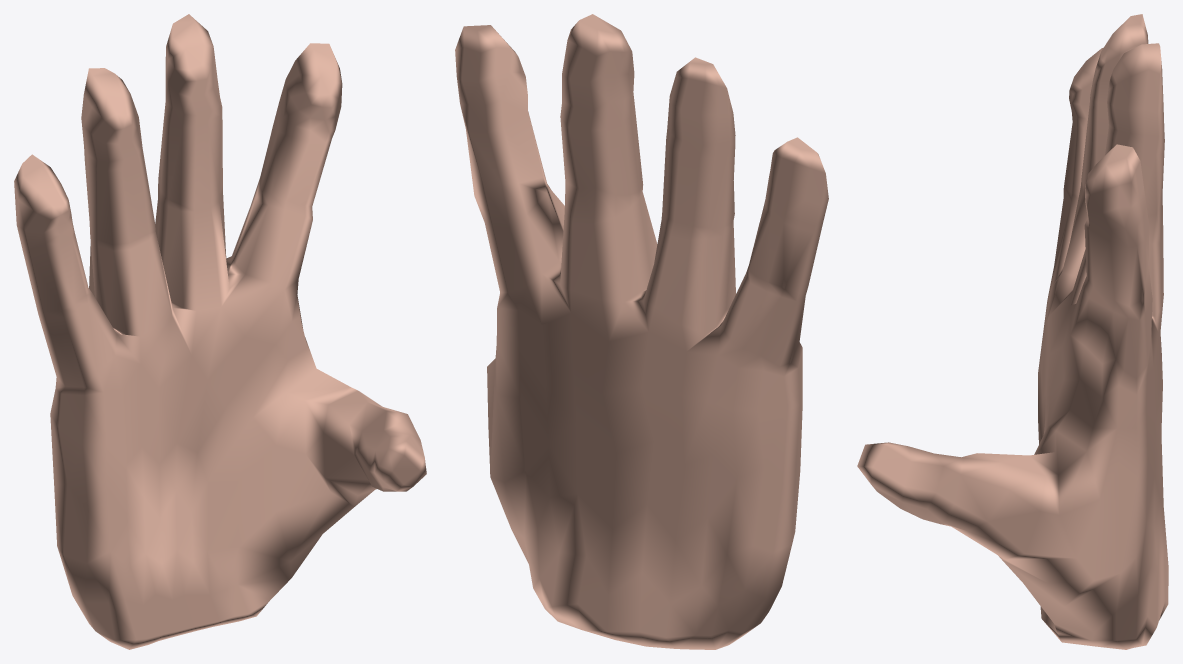
File: MAO_5_COM_POLEGAR_PARA_FRENTE.obj
3 views of the same model, side by side, from view 1: azimuth 30°, elevation 25°; view 2: azimuth 150°, elevation 25°; view 3: azimuth 270°, elevation 25° (orthographic). The views are drawn at different scales.
Parts seen in each view (by area): view 1: mao_dir:mao_dir; view 2: mao_dir:mao_dir; view 3: mao_dir:mao_dir.
Part boxes in pixels (x1,y1,x2,y2): mao_dir:mao_dir: [14, 14, 426, 649]; mao_dir:mao_dir: [455, 14, 828, 649]; mao_dir:mao_dir: [857, 14, 1168, 649].
Bounding box in the file's own units: 148 × 243 × 117.
